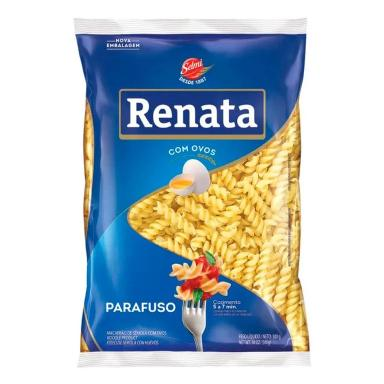pasta package: (75, 19, 308, 365)
